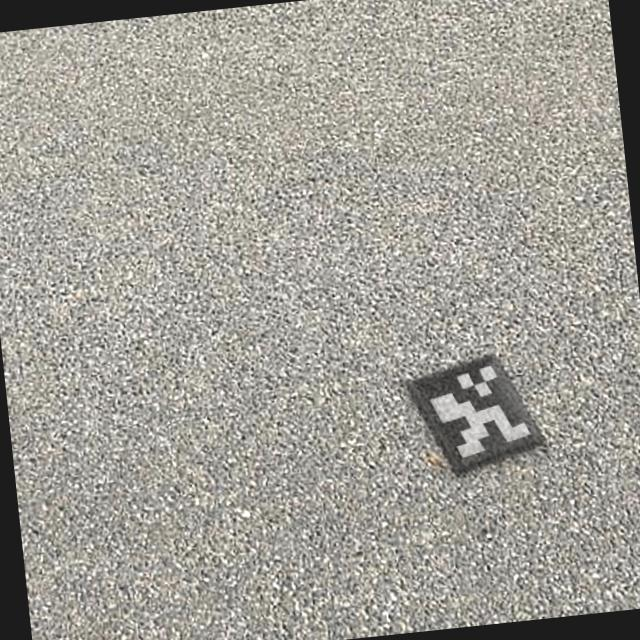marker: (394, 340, 556, 487)
